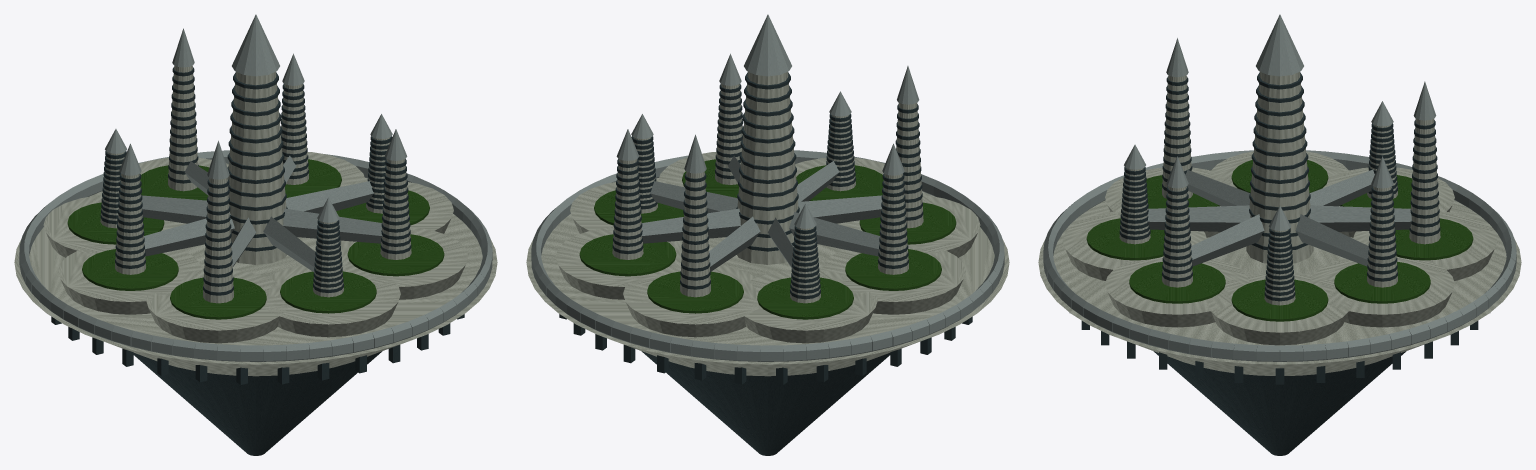
Rendered from palace_lotus_01.fbx.
3 renders of one model, left to right at view 1: azimuth 30°, elevation 25°; view 2: azimuth 150°, elevation 25°; view 3: azimuth 270°, elevation 25°, orthographic.
Parts seen in each view (by area): view 1: palace_lotus_01_LOD0; view 2: palace_lotus_01_LOD0; view 3: palace_lotus_01_LOD0.
Part boxes in pixels (left/top/right/bottom): palace_lotus_01_LOD0: left=14, top=14, right=497, bottom=455; palace_lotus_01_LOD0: left=526, top=14, right=1009, bottom=455; palace_lotus_01_LOD0: left=1038, top=14, right=1521, bottom=455.
Size of what is drawn, in the model's own units: 1 by 1 by 1.
